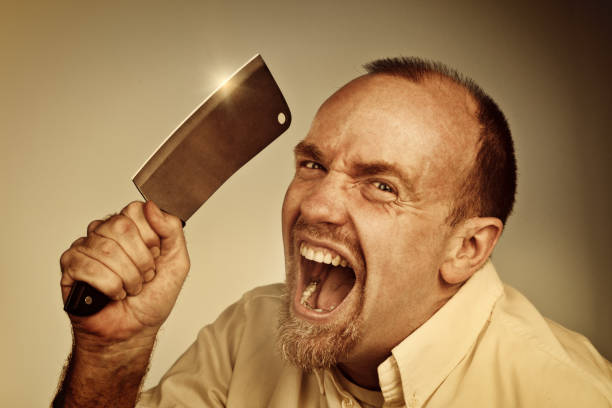knife: (63, 51, 294, 319)
